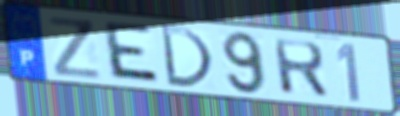1: (335, 41, 362, 103)
9: (218, 29, 267, 96)
D: (157, 23, 217, 90)
E: (104, 19, 164, 87)
R: (270, 37, 331, 100)
Z: (46, 14, 105, 82)
